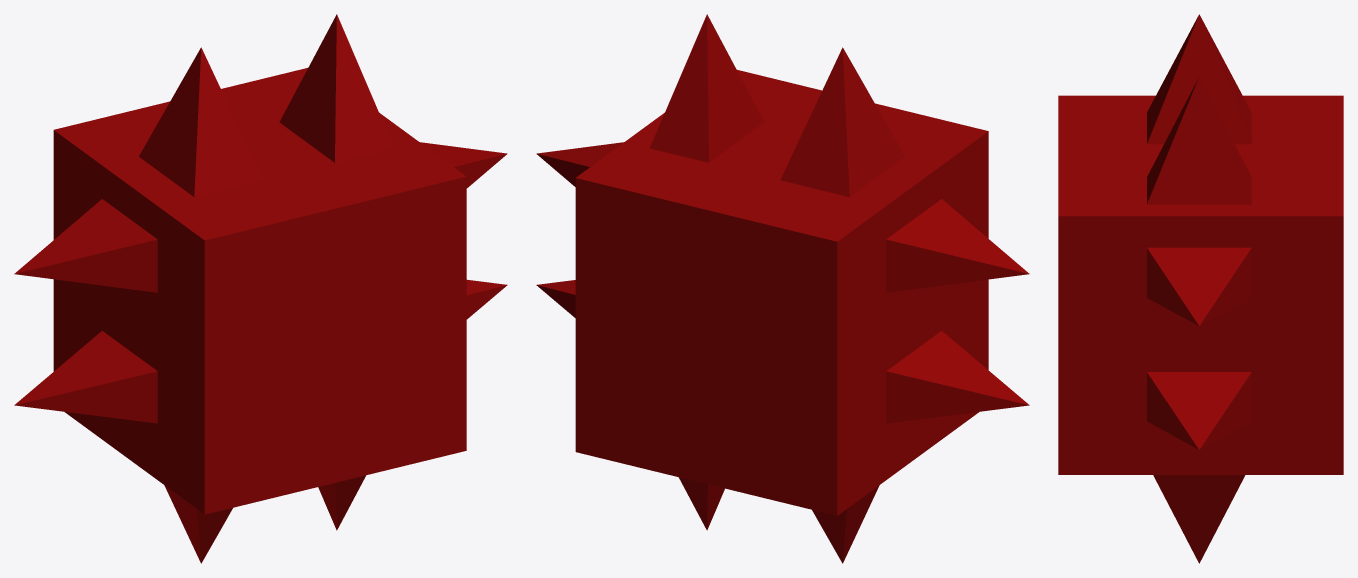
Rendered from SM_dangerous.FBX.
The picture shows the model from 3 angles, left to right: view 1: azimuth 30°, elevation 25°; view 2: azimuth 150°, elevation 25°; view 3: azimuth 270°, elevation 25°; orthographic projection. The views are drawn at different scales.
Visible parts, largest first — view 1: SM_dangerous; view 2: SM_dangerous; view 3: SM_dangerous.
Part boxes in pixels (left/top/right/bottom): SM_dangerous: left=14, top=14, right=507, bottom=563; SM_dangerous: left=536, top=14, right=1029, bottom=563; SM_dangerous: left=1058, top=14, right=1343, bottom=563.
Size of the model in its own units: 225 by 225 by 119.
